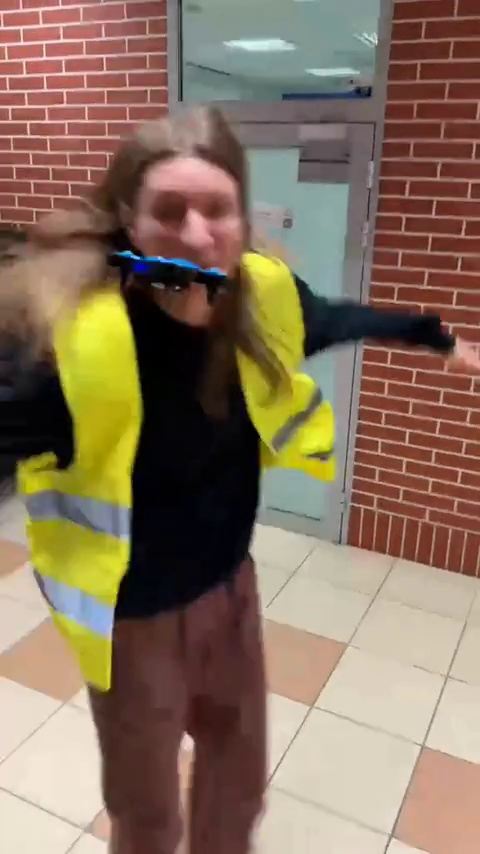drone: (107, 241, 240, 309)
vest: (11, 112, 337, 854)
